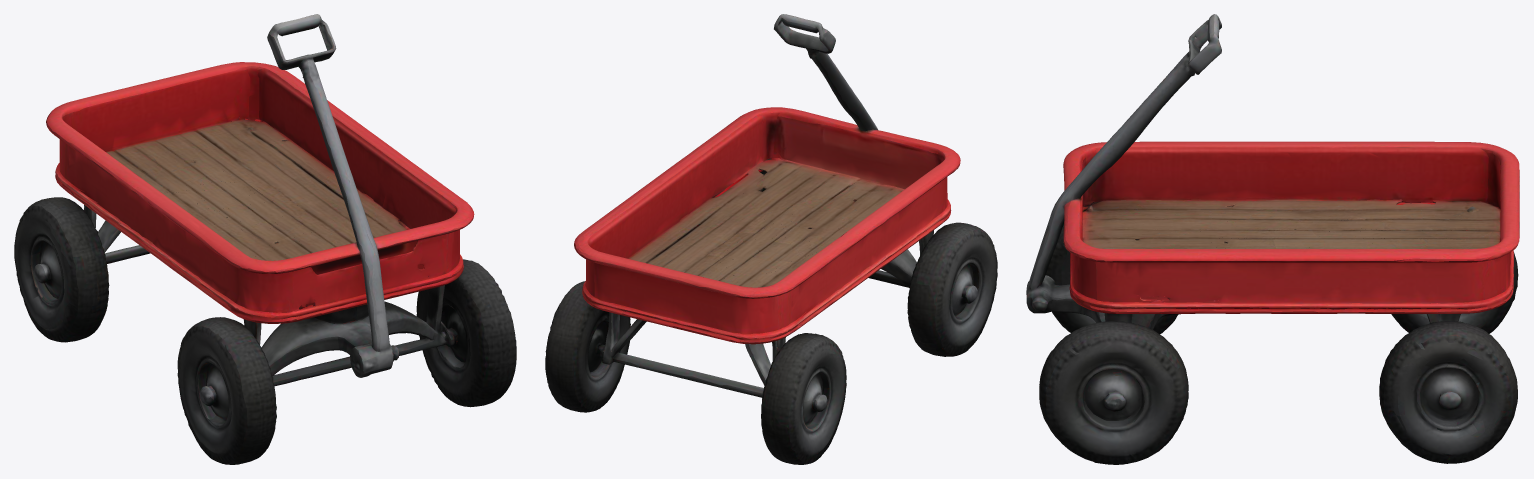
The model's file is parts.glb.
3 renders of one model, left to right at view 1: azimuth 30°, elevation 25°; view 2: azimuth 150°, elevation 25°; view 3: azimuth 270°, elevation 25°, orthographic. The views are drawn at different scales.
Bounding box in the file's own units: 0.9 × 1.12 × 1.33.
Materials: 9 (9 with a texture image).
